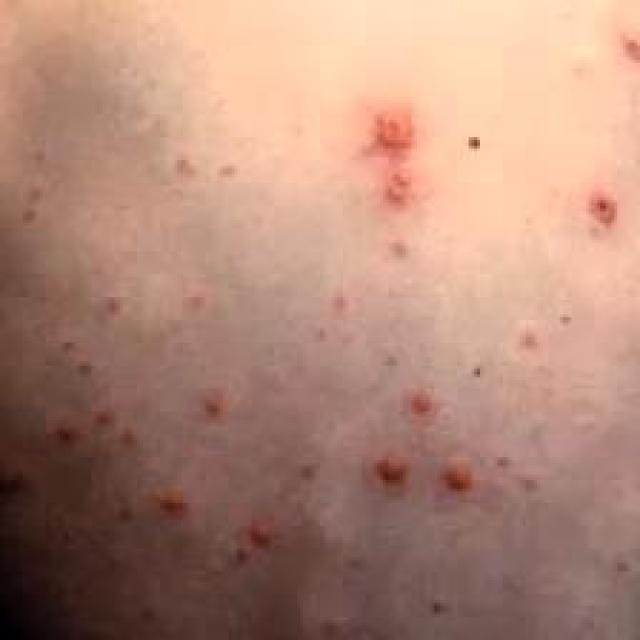others: (60, 16, 639, 640)
